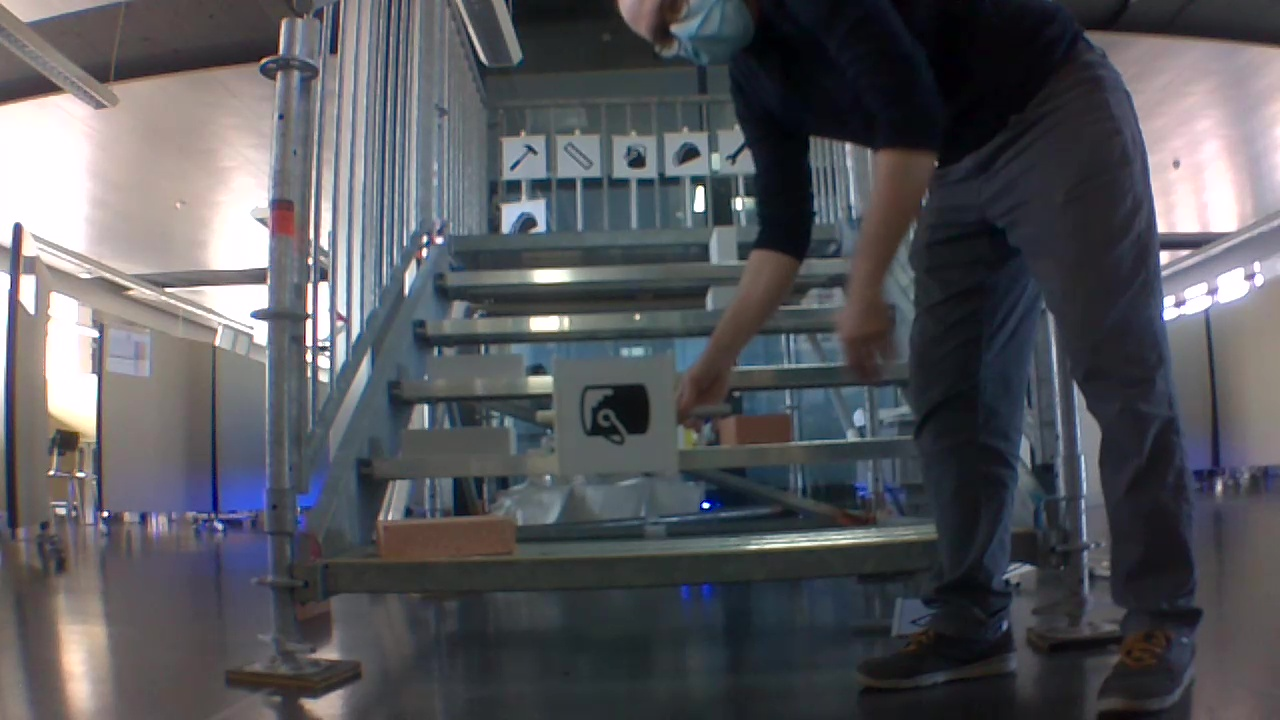brick: (378, 515, 513, 559), (401, 428, 517, 459), (427, 352, 524, 379), (719, 413, 790, 444), (709, 226, 736, 261), (703, 288, 732, 307)
bucket: (568, 378, 654, 450), (618, 140, 650, 172)
edge: (315, 532, 1037, 586)
hammer: (504, 141, 543, 175)
ruler: (559, 140, 595, 172)
taco: (501, 205, 538, 233), (670, 139, 702, 168)
